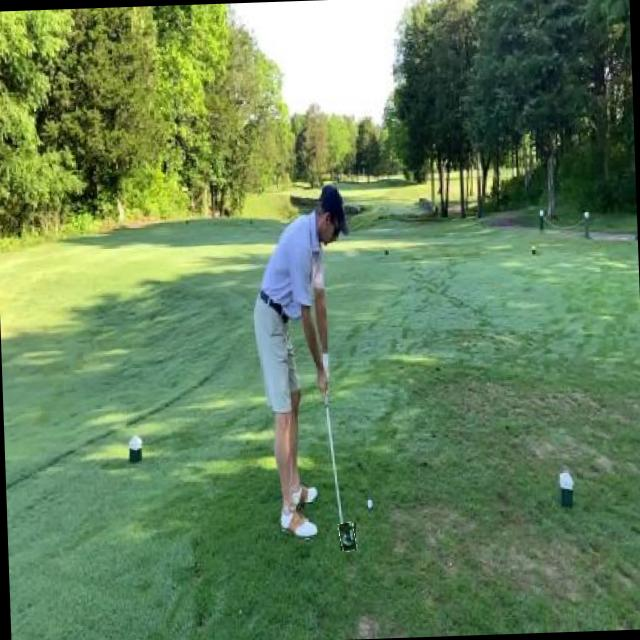club head: (339, 522, 356, 550)
